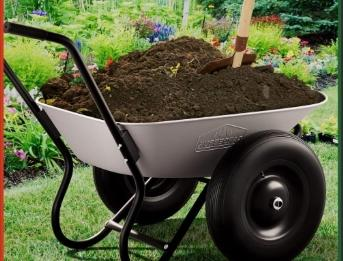BROUETTE: (0, 18, 343, 261)
